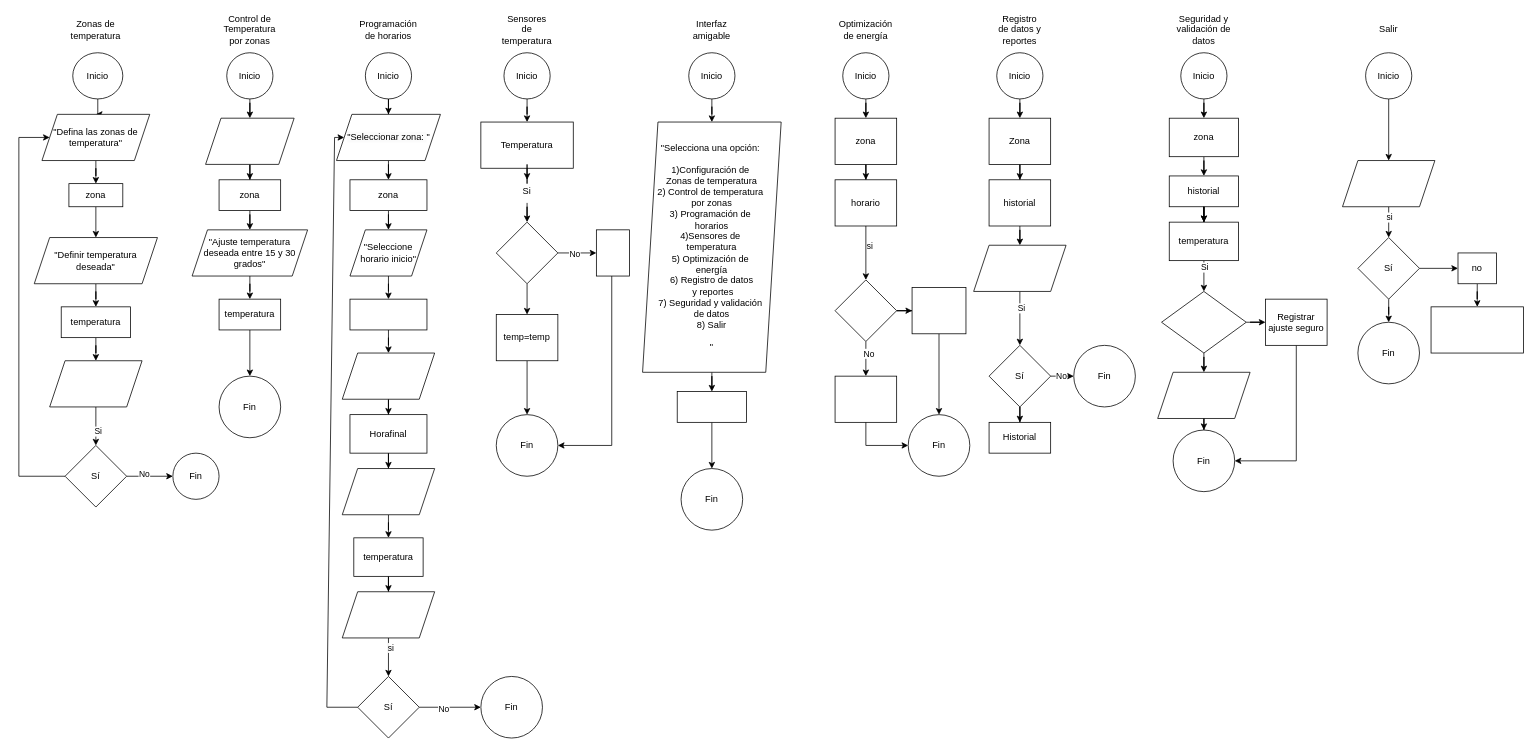
Some shapes in this 1537 by 752 pixel diagram are drawn without their labels. Each missing label, with the centre of its shape:
"Alerta, temperatura insegura": point (1203, 395)
"Desea salir del programa?": point (1388, 183)
"Seleccionar zona": point (249, 140)
"Seleccione horario final": point (388, 375)
"Seleccione temperatura": point (388, 491)
"¿Desea agregar otra zona?": point (95, 383)
"¿Desea agregar otro horario?": point (388, 614)
"¿Visualizar historial?": point (1019, 267)
#Regresar al menú de inicio: point (1476, 329)
Ajustar temperatura a ambiente: point (865, 398)
Hay horario: point (865, 310)
HoraInicio: point (388, 314)
Mantener temperatura: point (938, 310)
opcion: point (711, 406)
Temp == 21: point (612, 252)
temp= 21: point (526, 252)
Temperatura segura: point (1203, 322)
